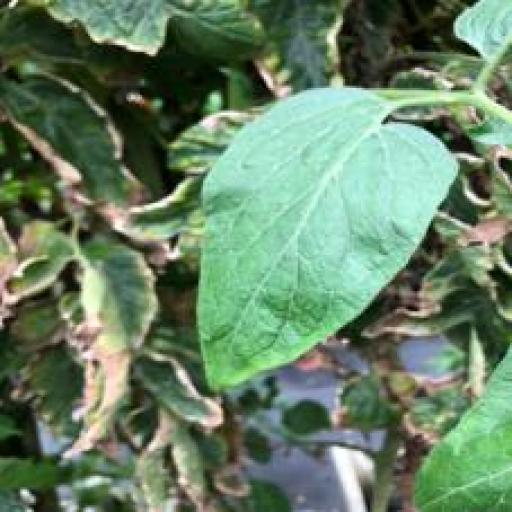Healthy: (194, 84, 462, 398)
